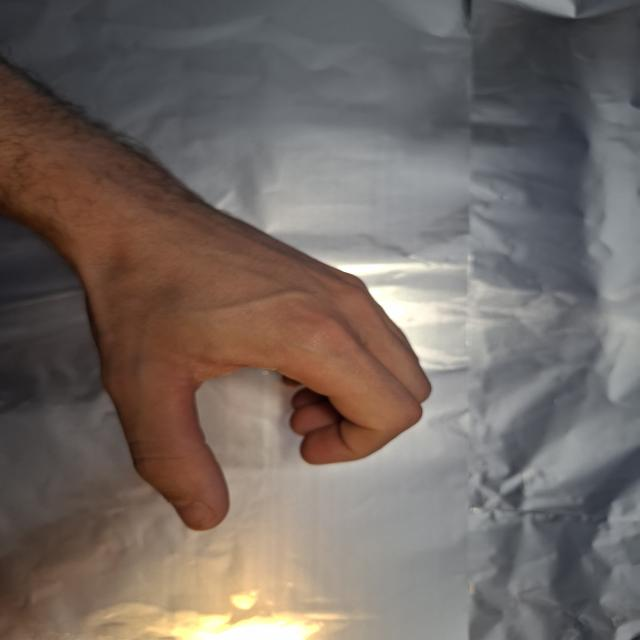glove_off: (44, 158, 437, 533)
